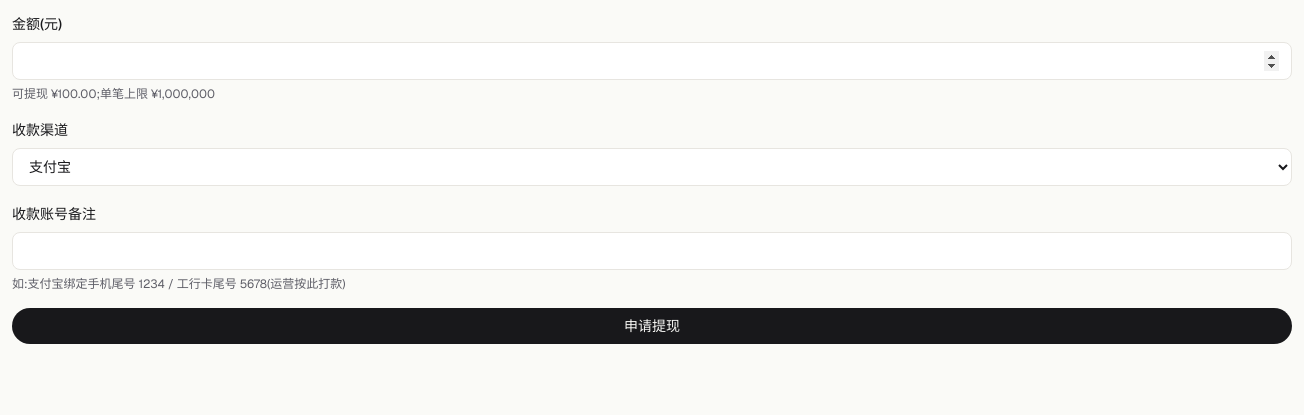
it: WithdrawalForm › surfaces the server error message verbatim
Type "50" into the number field labelled "金额(元) 可提现 ¥100.00;单笔上限 ¥1,000,000". click: (652, 61)
box: [12,42,1292,80]
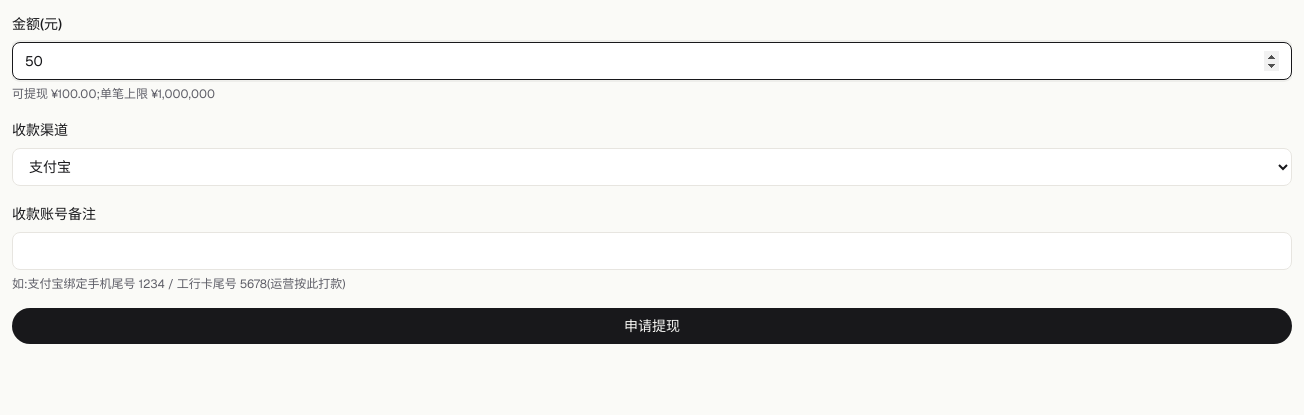
Type "alipay 1234" into the field labelled "收款账号备注 如:支付宝绑定手机尾号 1234 / 工行卡尾号 5678(运营按此打款)". click: (652, 251)
box: [12,232,1292,270]
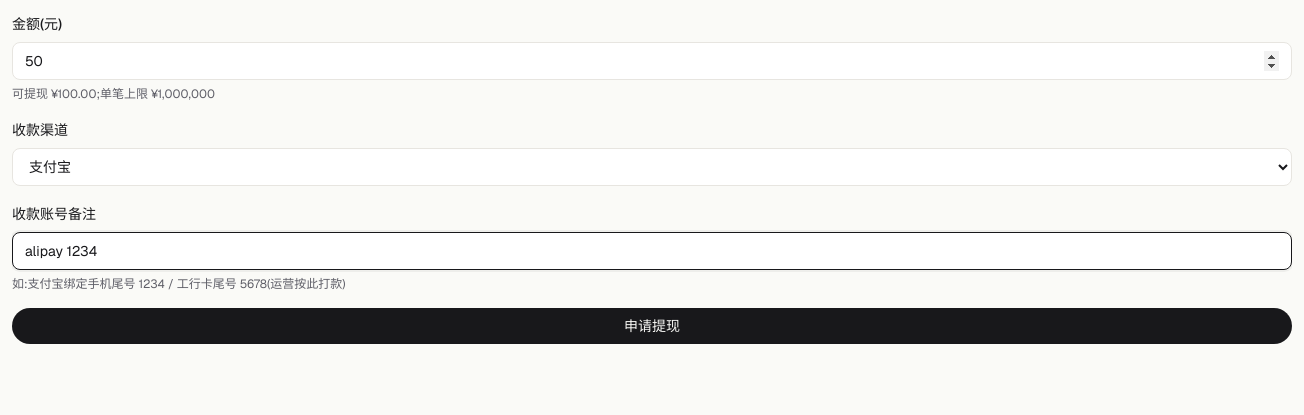
Click the button "申请提现". click: click(652, 326)
box: [12,308,1292,344]
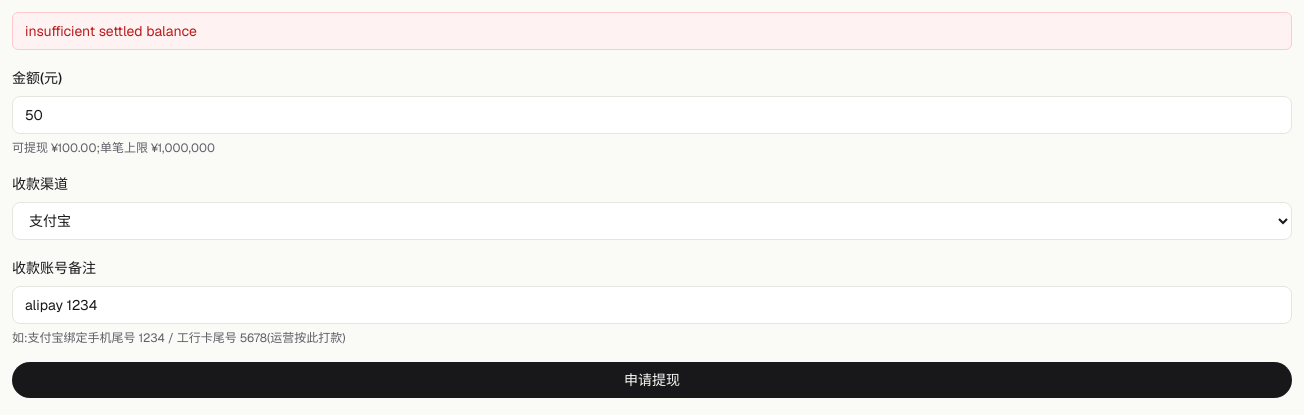
Now the text "insufficient settled balance" is shown, box [12,12,1292,50]
